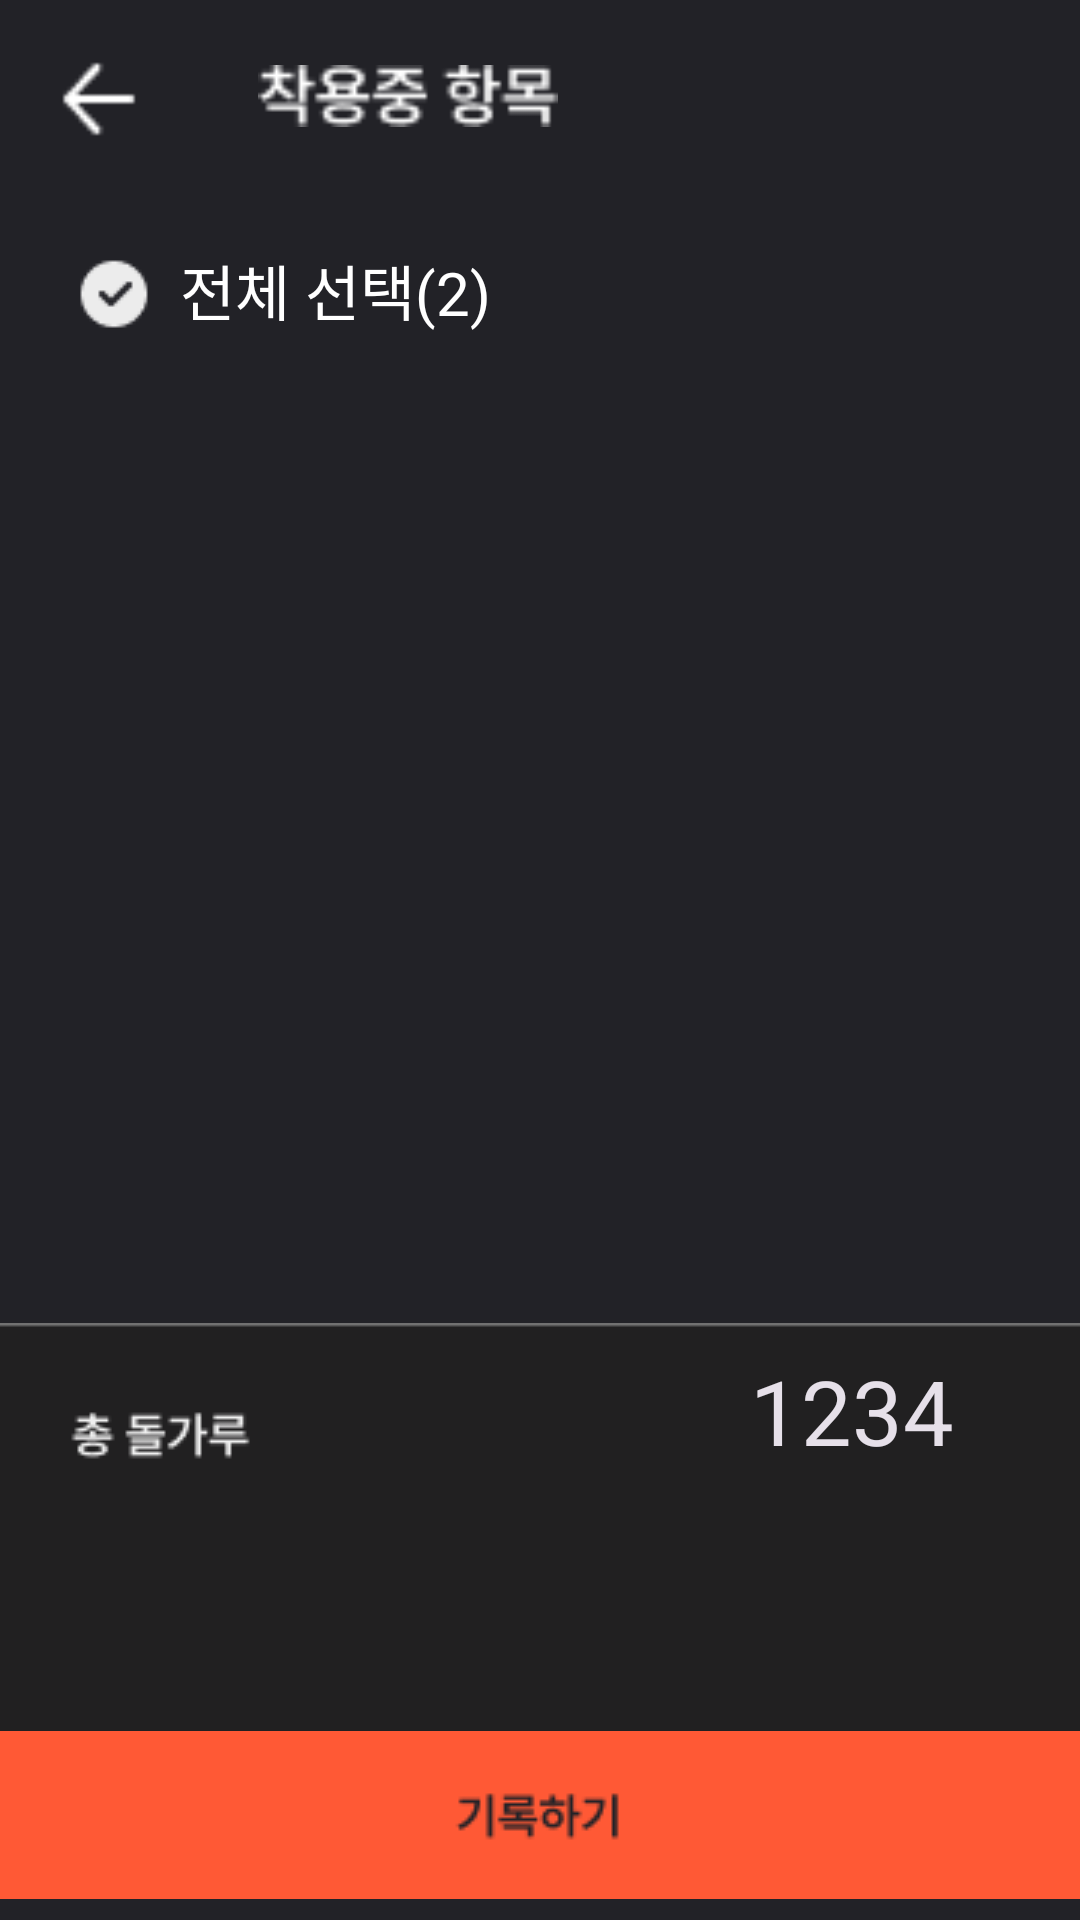

Screen size 1080w x 1920h. Icon name, then its box in pixels as (x1, y1, x2, y2):
check: (80, 260, 148, 328)
store backicon: (62, 62, 136, 136)
